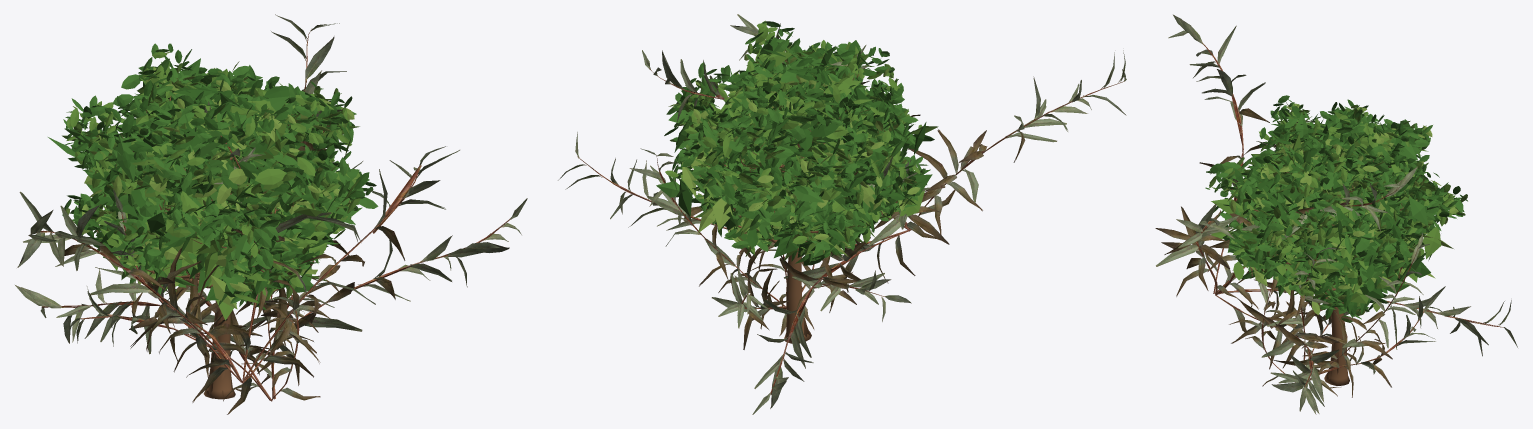
The model's file is vegetation.glb.
3 renders of one model, left to right at view 1: azimuth 30°, elevation 25°; view 2: azimuth 150°, elevation 25°; view 3: azimuth 270°, elevation 25°, orthographic. The views are drawn at different scales.
Visible parts, largest first — view 1: Arvore_near_folhas, Arvore_mid_folhas, Arvore_far_folhas, shrub0_near, shrub0_far, shrub1_near, shrub1_far, Arvore_near_casca, Arvore_far_casca; view 2: Arvore_near_folhas, Arvore_mid_folhas, Arvore_far_folhas, shrub0_far, shrub0_near, shrub1_far, shrub1_near, Arvore_near_casca; view 3: Arvore_near_folhas, Arvore_mid_folhas, Arvore_far_folhas, shrub0_far, shrub0_near, shrub1_far, shrub1_near, Arvore_near_casca.
Boxes of the visible parts, x1,y1,x2,y2 form: Arvore_near_folhas: (62,43,376,294); Arvore_mid_folhas: (74,58,378,306); Arvore_far_folhas: (48,58,362,320); shrub0_near: (15,14,527,414); shrub0_far: (15,15,525,401); shrub1_near: (68,101,362,401); shrub1_far: (68,102,365,401); Arvore_near_casca: (89,69,335,399); Arvore_far_casca: (75,133,321,398); Arvore_near_folhas: (664,20,927,256); Arvore_mid_folhas: (666,38,934,265); Arvore_far_folhas: (656,32,938,263); shrub0_far: (562,15,1125,414); shrub0_near: (559,14,1126,414); shrub1_far: (631,45,906,349); shrub1_near: (629,45,911,349); Arvore_near_casca: (691,67,897,343); Arvore_near_folhas: (1205,95,1467,319); Arvore_mid_folhas: (1211,108,1436,322); Arvore_far_folhas: (1211,110,1453,314); shrub0_far: (1156,14,1516,412); shrub0_near: (1155,15,1517,413); shrub1_far: (1231,109,1445,397); shrub1_near: (1229,102,1444,396); Arvore_near_casca: (1225,138,1409,385).
Bounding box in the file's own units: 1.87 × 1 × 1.26.
5 materials, 1 textured.
